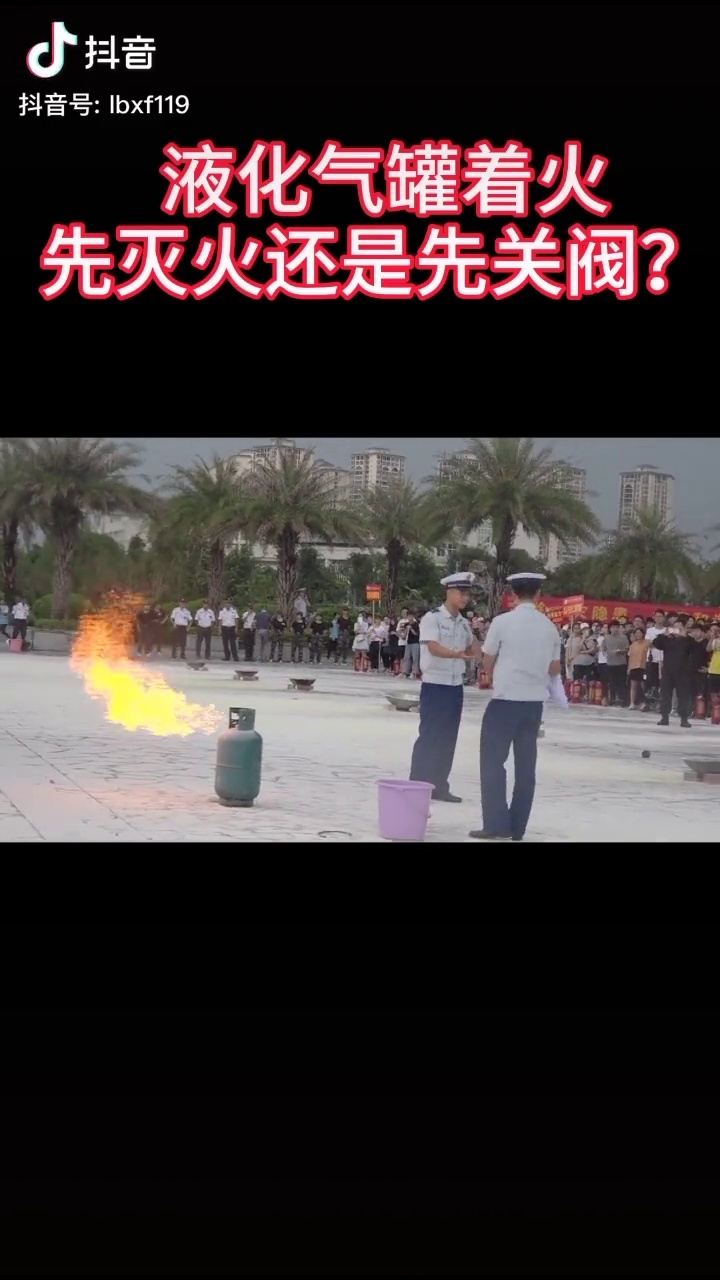fire: (68, 614, 217, 745)
